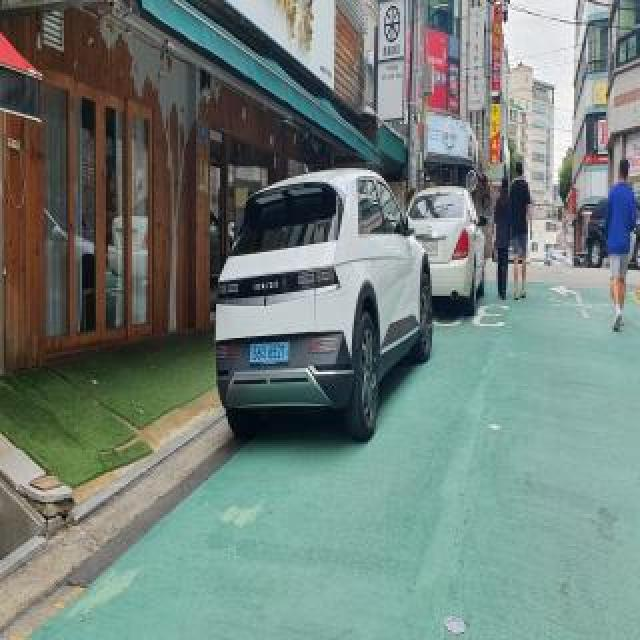EV_plate: (247, 339, 294, 366)
car: (214, 164, 438, 451)
